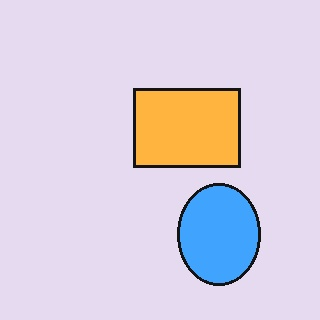circle_target: (177, 183, 260, 286)
square_target: (133, 89, 241, 167)
